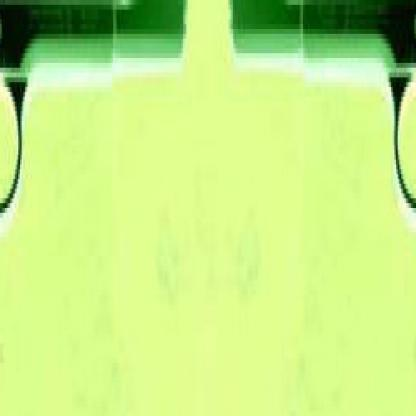gun: (0, 0, 192, 412), (228, 0, 414, 411)
